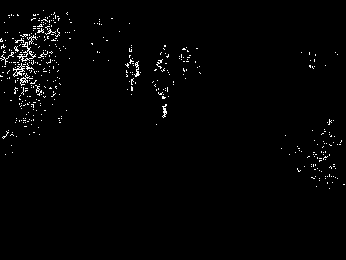person: (151, 58, 175, 119)
